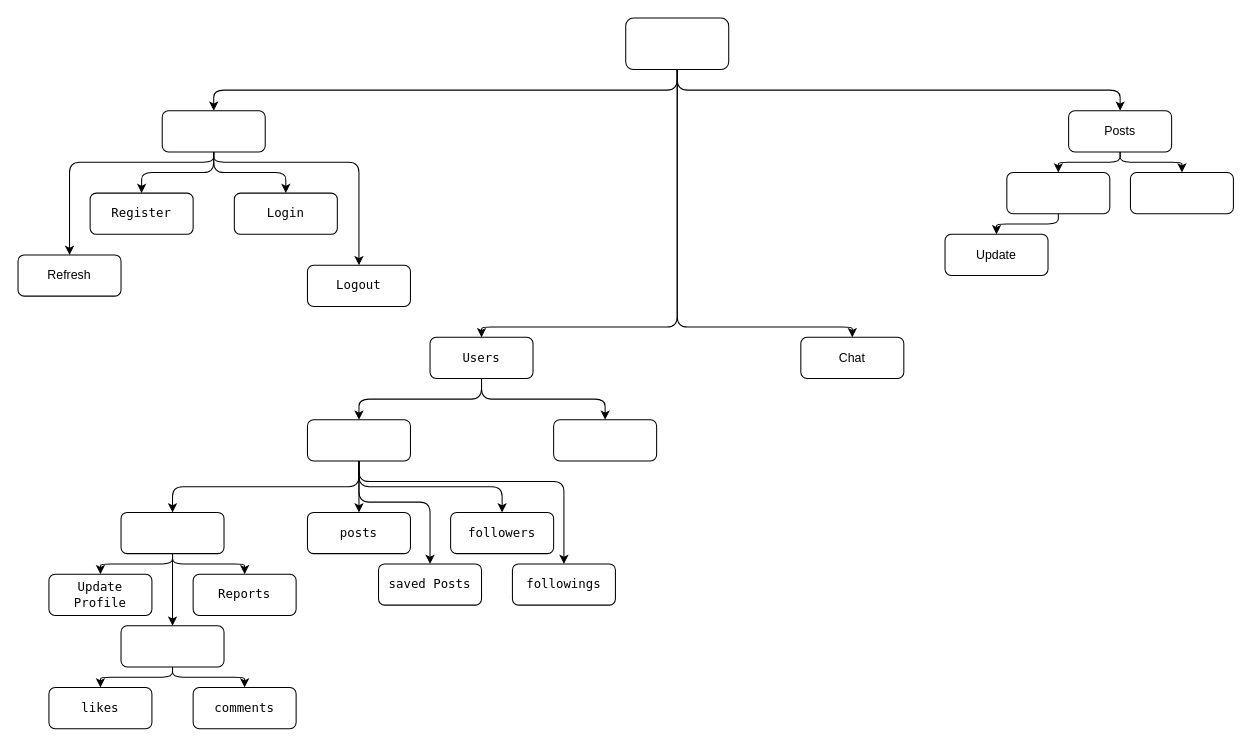
Some shapes in this 1251 by 747 pixel diagram are drawn without their labels. Here are the shapes that lost their labels. From the top down, the box of each, then its label:
(625, 17, 729, 70): Home
(161, 110, 265, 152): Auth
(1006, 171, 1110, 214): Post
(1129, 171, 1233, 214): Explore
(306, 419, 410, 461): User Profile
(553, 419, 657, 461): Search
(120, 511, 224, 554): Settings
(120, 625, 224, 667): Interactions
